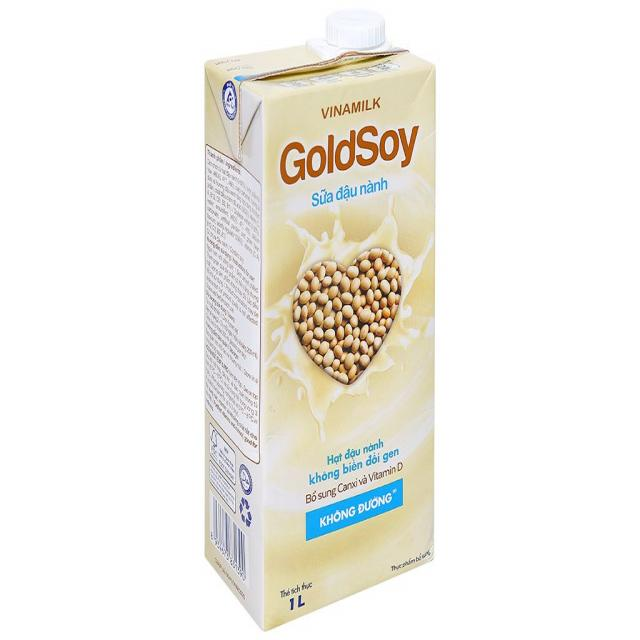non_white_jug: (188, 2, 444, 620)
